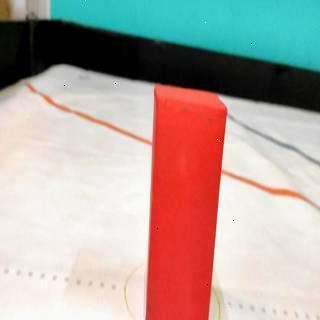redbox: (144, 85, 228, 320)
